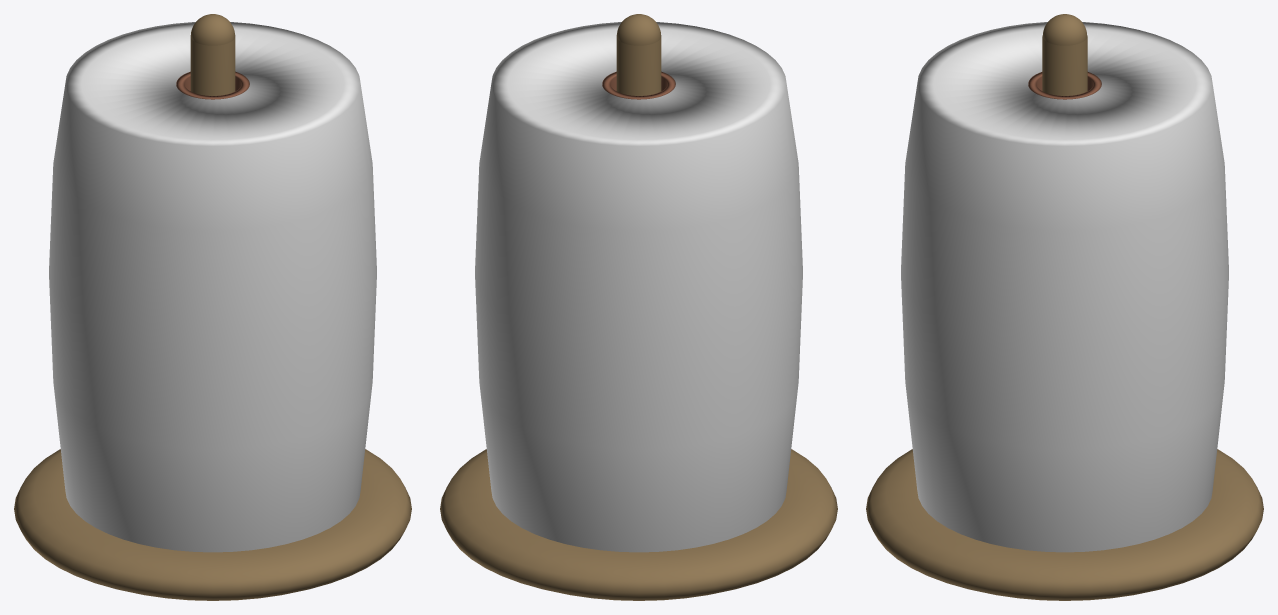
File: paper towel roll.fbx
3 views of the same model, side by side, from view 1: azimuth 30°, elevation 25°; view 2: azimuth 150°, elevation 25°; view 3: azimuth 270°, elevation 25° (orthographic).
Visible parts, largest first — view 1: Cylinder, Torus; view 2: Cylinder, Torus; view 3: Cylinder, Torus.
Part boxes in pixels (x1,y1,x2,y2): Cylinder: (49, 14, 376, 552); Torus: (14, 449, 411, 600); Cylinder: (475, 14, 802, 552); Torus: (440, 449, 837, 600); Cylinder: (901, 14, 1228, 552); Torus: (866, 449, 1263, 600).
Bounding box in the file's own units: 250 × 355 × 250.
